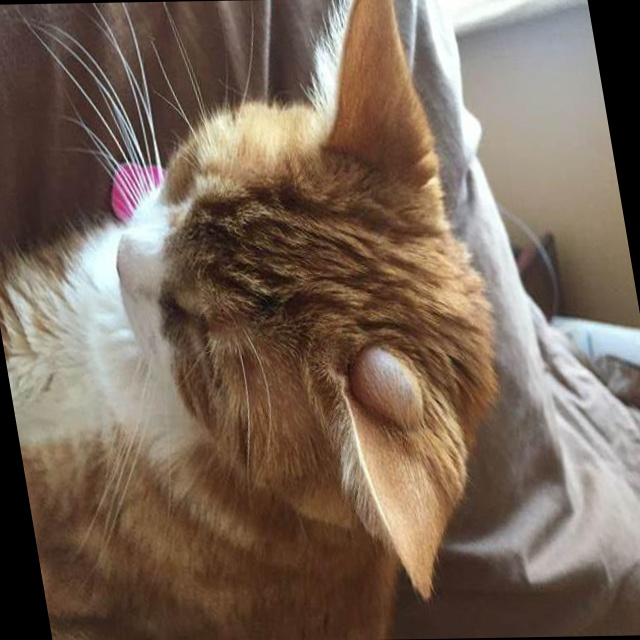lump_and_bump: (347, 348, 430, 421)
